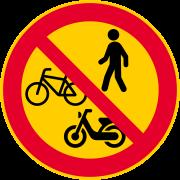Pedestrian Prohibited: (7, 2, 180, 173)
